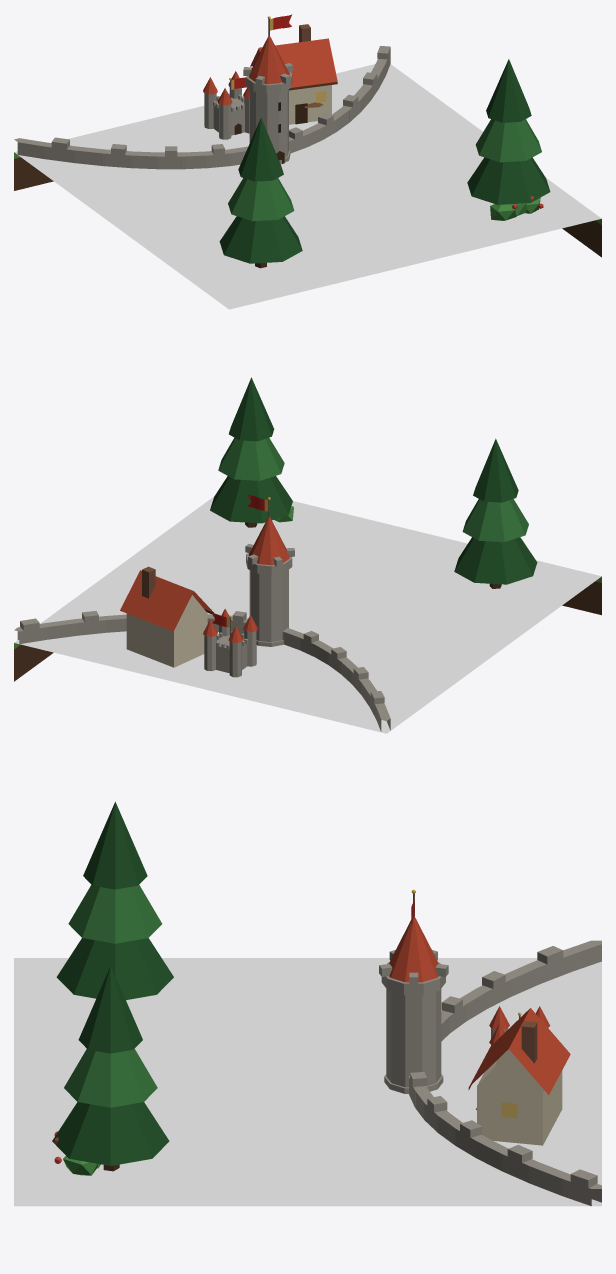
The model's file is capRR.glb.
3 renders of one model, top to bottom at view 1: azimuth 30°, elevation 25°; view 2: azimuth 150°, elevation 25°; view 3: azimuth 270°, elevation 25°, orthographic. The views are drawn at different scales.
Visible parts, largest first — view 1: capRR; view 2: capRR; view 3: capRR.
Boxes of the visible parts, bbox=[...] form: capRR: bbox=[14, 14, 601, 309]; capRR: bbox=[14, 377, 601, 733]; capRR: bbox=[14, 801, 601, 1206].
Size of the model in its own units: 2 by 0.96 by 2.
